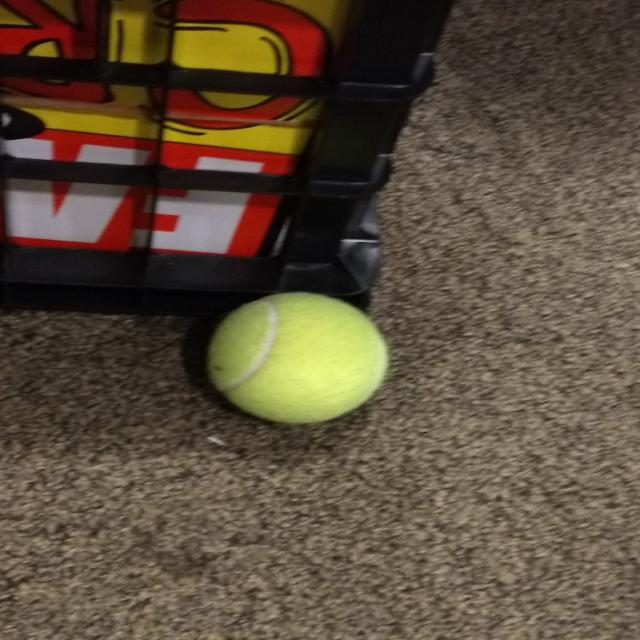Tennis-Ball: (204, 279, 396, 435)
